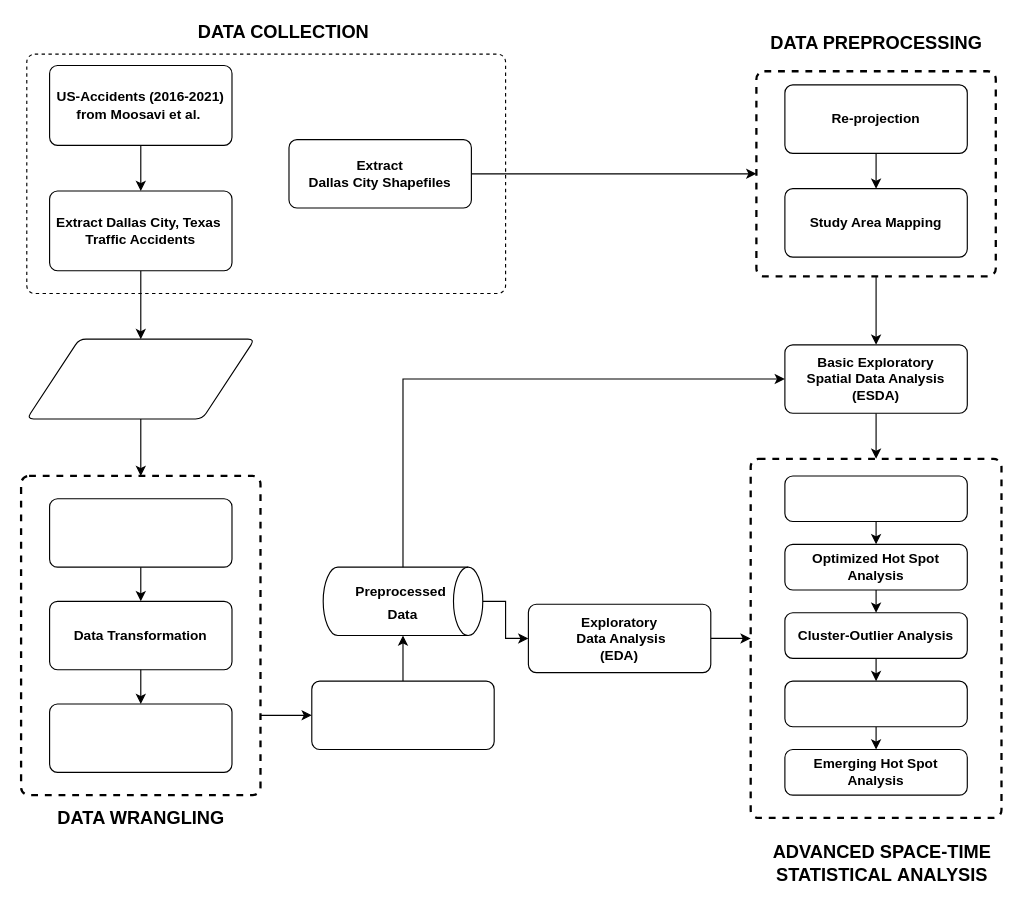
This 1021x905 diagram has some shape labels left out. The shapes that lost their labels are listed below. From the top down, each one's centre as x and y in pixels, then its label:
the point at 140,378: Dallas City, Texas Traffic Accidents Raw Data
the point at 875,498: Spatial Autocorrelation
the point at 140,532: Data Cleaning
the point at 402,715: Feature Engineering
the point at 875,703: Space-Time Cube Creation by Aggregating Points
the point at 140,737: Data Imputation
